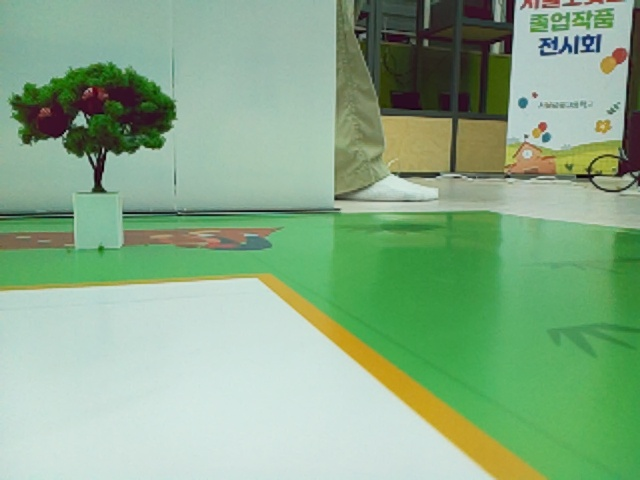apple: (83, 87, 106, 101), (613, 49, 626, 64)
